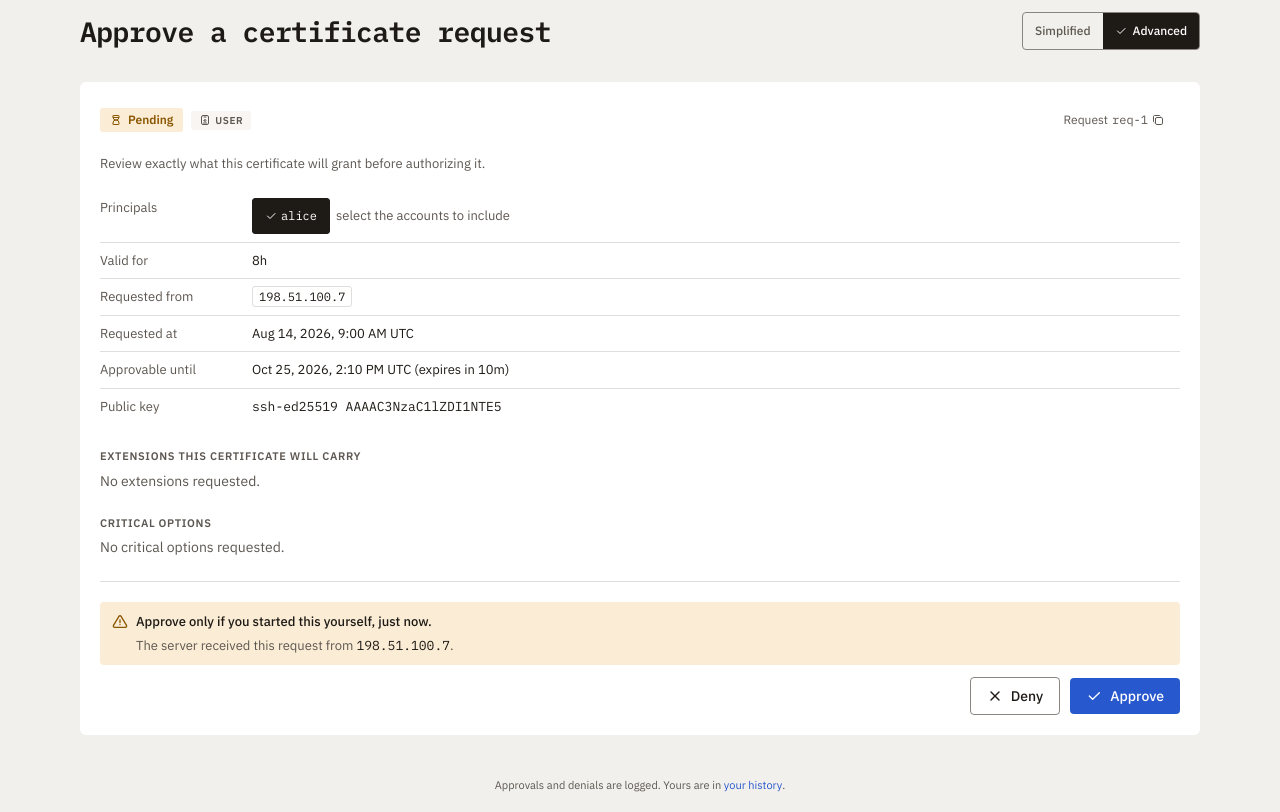
Test: when a decision does not go through › should show the request closed in the meantime instead of the error
Click the button with test id "approve-button".
click(1125, 696)  # box [1070,678,1180,714]
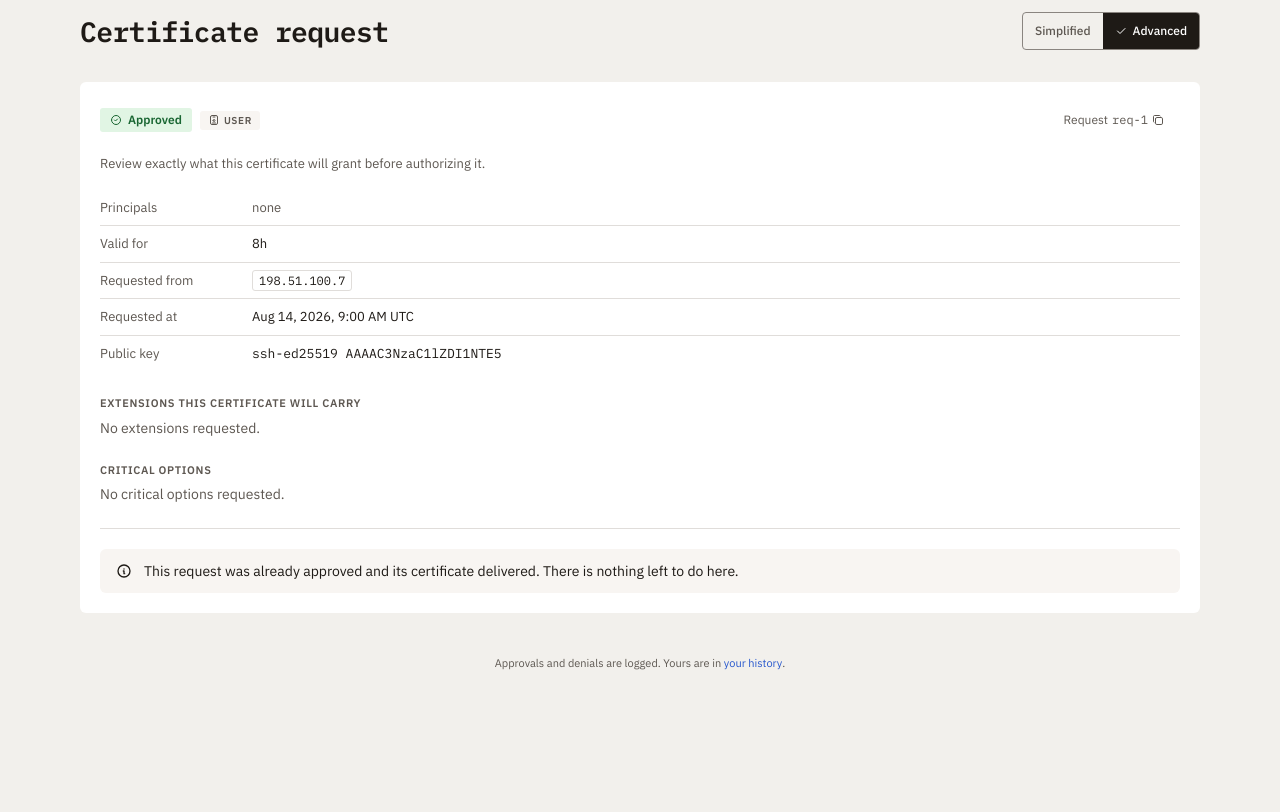
Expected: the message with test id "blocked-already-resolved" shows "nothing left to do", [144,562,739,580]
